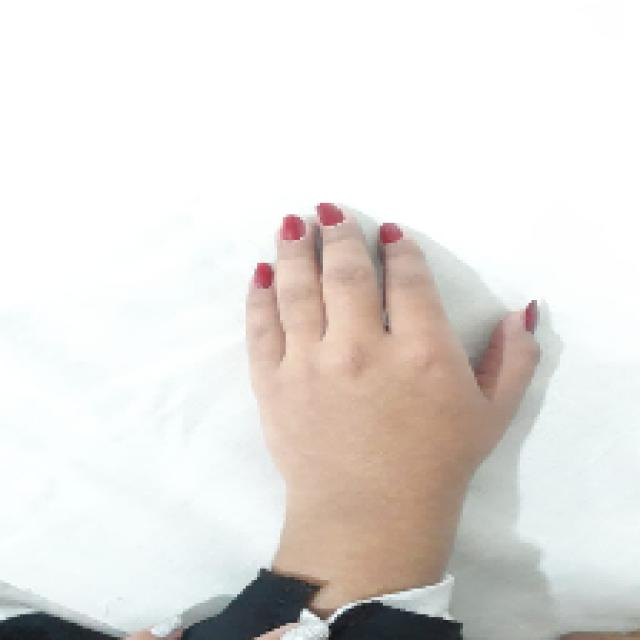Nail: (316, 202, 345, 226), (281, 214, 305, 241), (524, 300, 539, 334), (254, 263, 274, 288), (380, 222, 402, 244)
